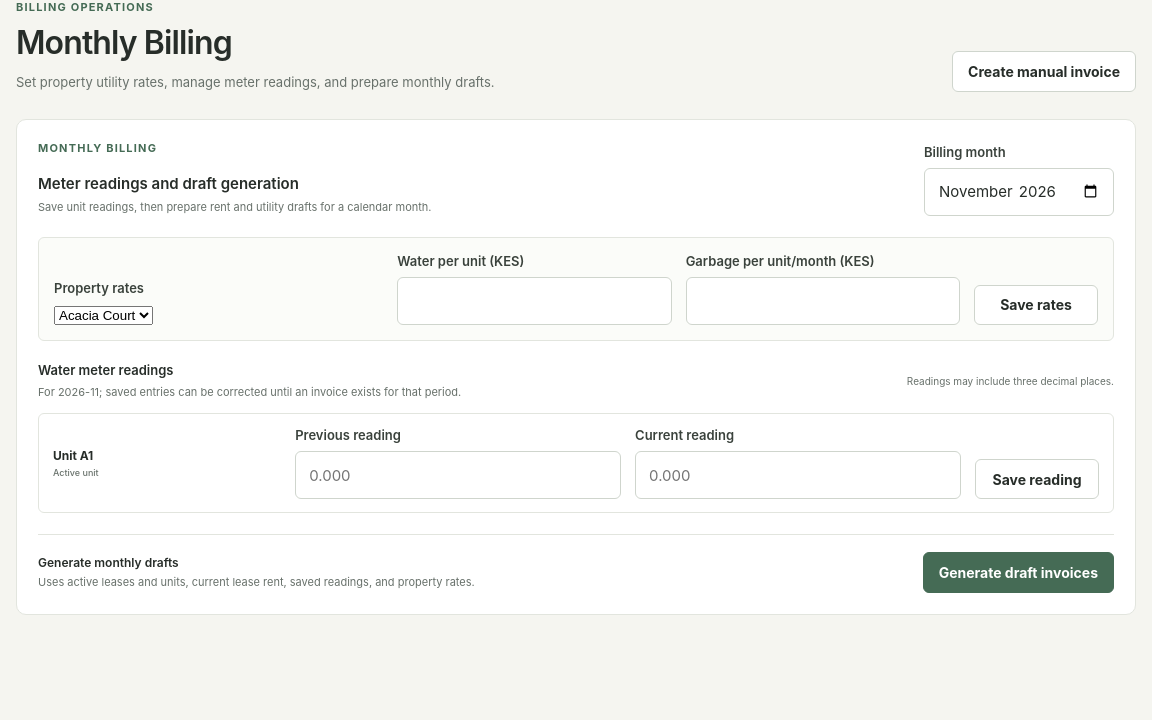
MonthlyBillingPage › reports invoices created on the first successful generation
The image size is (1152, 720).
Expected: the field labelled "Current reading" is shown, [635, 451, 961, 499]
Click the button "Generate draft invoices". click: [1018, 573]
box: [923, 552, 1114, 593]
(page scrolled)
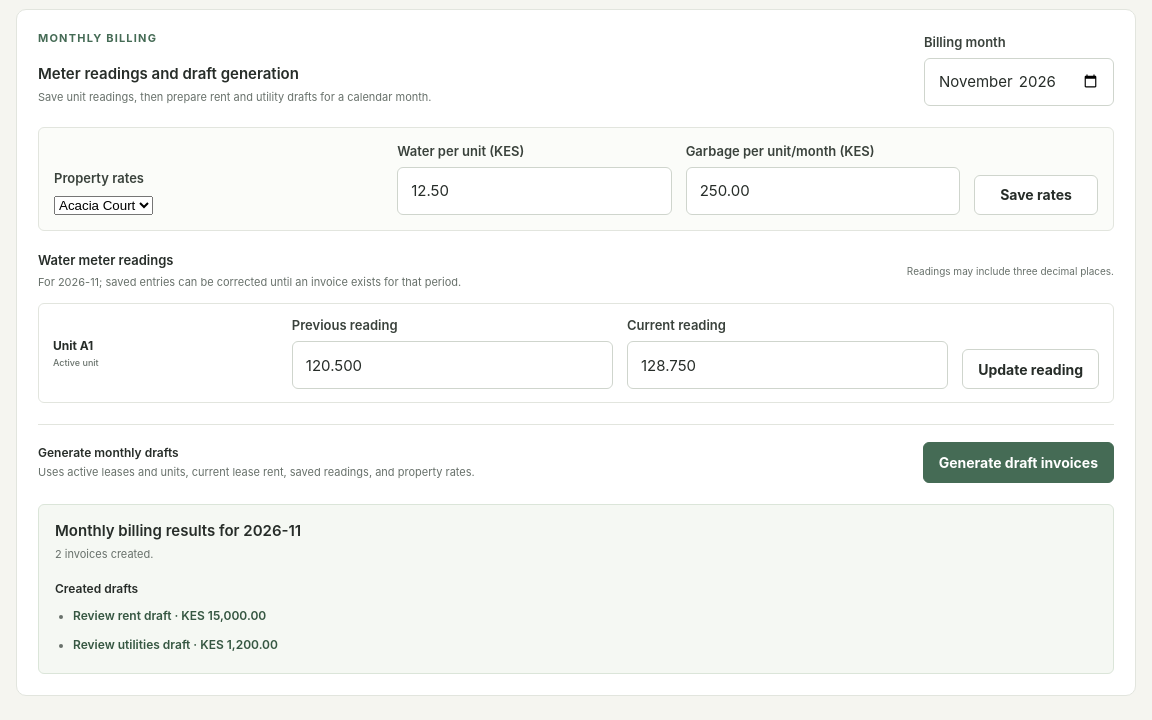
Now the text "2 invoices created." is shown, box [55, 547, 153, 561]
Now the button "Review rent draft · KES 15,000.00" is shown, box [73, 604, 266, 628]
Now the button "Review utilities draft · KES 1,200.00" is shown, box [73, 633, 278, 657]
